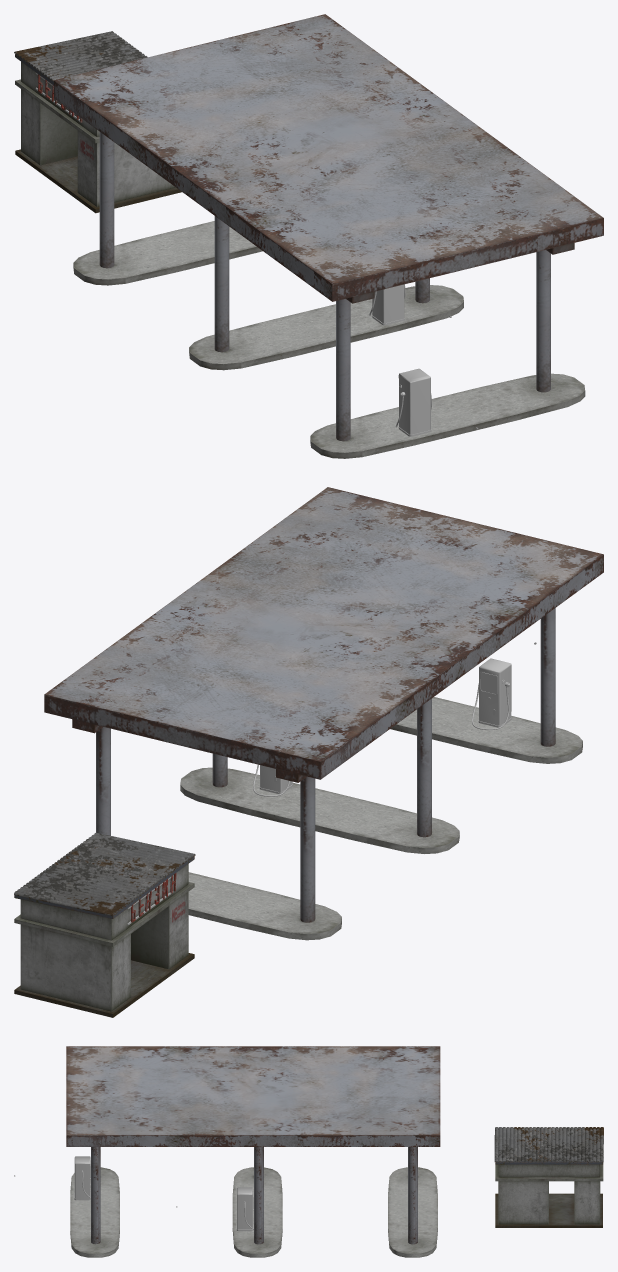
Rendered from Gas_Station.fbx.
The picture shows the model from 3 angles, top to bottom: view 1: azimuth 30°, elevation 25°; view 2: azimuth 150°, elevation 25°; view 3: azimuth 270°, elevation 25°; orthographic projection. The views are drawn at different scales.
Parts seen in each view (by area): view 1: duplicated_06_lambert2_0, gas_station:maUniqueName_1001_lambert3_0, polySurface19_lambert5_0; view 2: duplicated_06_lambert2_0, gas_station:maUniqueName_1001_lambert3_0, polySurface19_lambert5_0; view 3: duplicated_06_lambert2_0, gas_station:maUniqueName_1001_lambert3_0, polySurface19_lambert5_0.
Boxes of the visible parts, box(x1,y1,x2,y2) form: duplicated_06_lambert2_0: box(54, 14, 603, 458); gas_station:maUniqueName_1001_lambert3_0: box(14, 31, 181, 213); polySurface19_lambert5_0: box(369, 284, 431, 436); duplicated_06_lambert2_0: box(44, 487, 603, 940); gas_station:maUniqueName_1001_lambert3_0: box(14, 832, 195, 1017); polySurface19_lambert5_0: box(253, 658, 511, 796); duplicated_06_lambert2_0: box(66, 1046, 440, 1257); gas_station:maUniqueName_1001_lambert3_0: box(494, 1127, 603, 1227); polySurface19_lambert5_0: box(74, 1156, 253, 1231).
Bounding box in the file's own units: 4173 × 2703 × 11701.
Materials: 4 (3 with a texture image).
